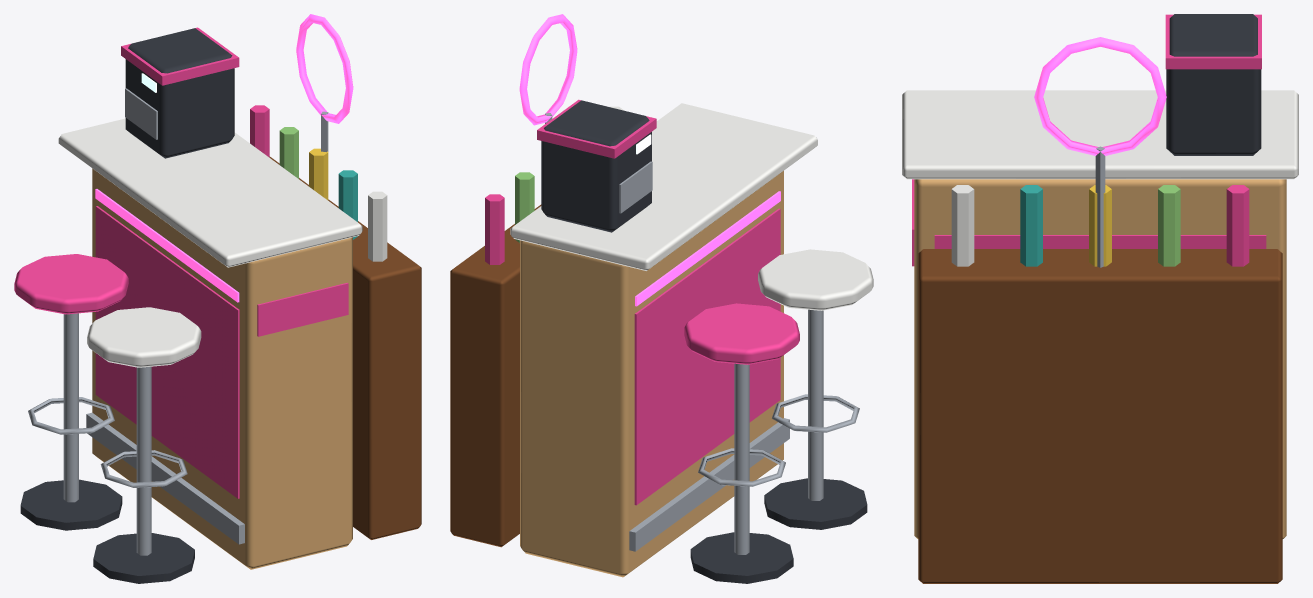
The model's file is station_special_ausstattung_3_3.glb.
3 renders of one model, left to right at view 1: azimuth 30°, elevation 25°; view 2: azimuth 150°, elevation 25°; view 3: azimuth 270°, elevation 25°, orthographic. The views are drawn at different scales.
Parts seen in each view (by area): view 1: station_special_ausstattung_3_3; view 2: station_special_ausstattung_3_3; view 3: station_special_ausstattung_3_3.
Boxes of the visible parts, box(x1,y1,x2,y2) form: station_special_ausstattung_3_3: box(14, 14, 421, 583); station_special_ausstattung_3_3: box(450, 14, 873, 583); station_special_ausstattung_3_3: box(902, 14, 1298, 583).
Size of the model in its own units: 0.9717 by 1.46 by 0.98.
